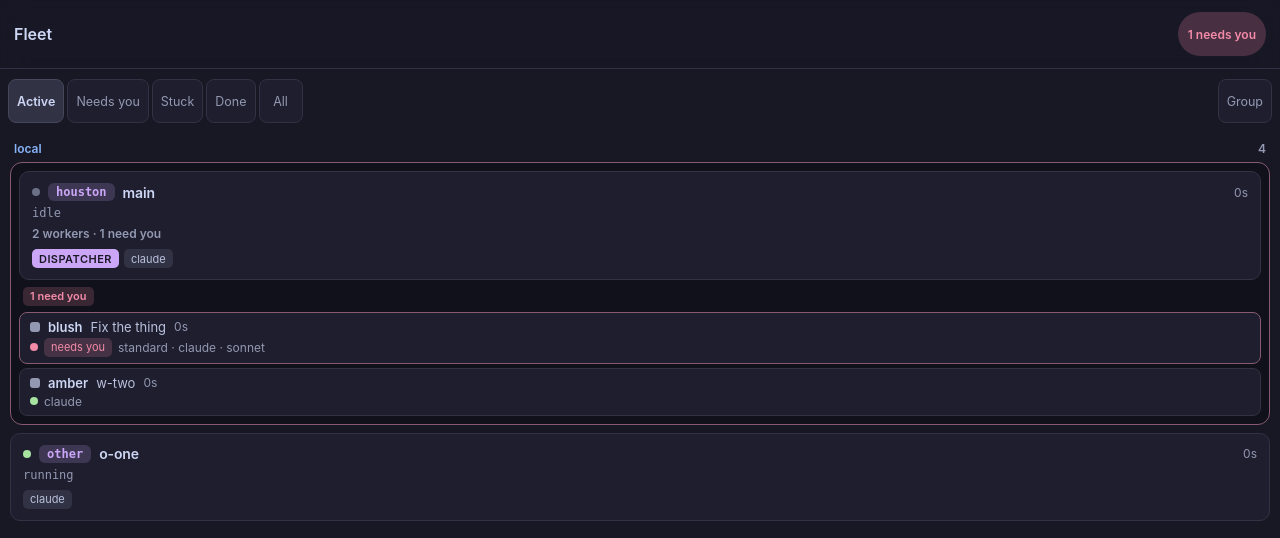
Test case: FleetView dispatcher mode › counts only the members a filter shows, but keeps the head
Click the button "Needs you": (108, 101) [67,79,149,123]
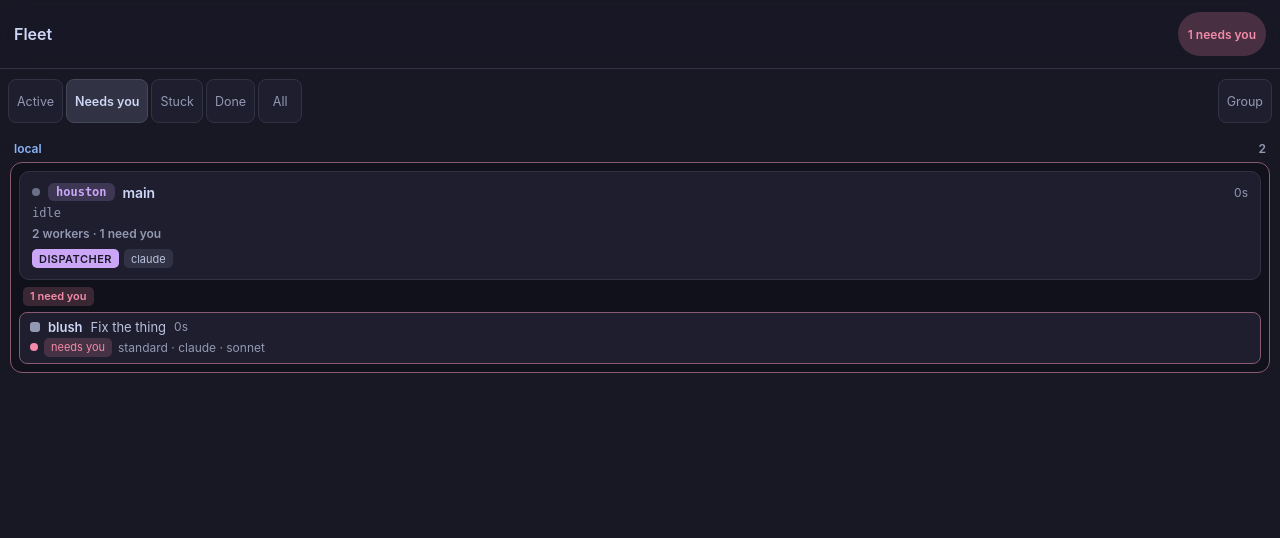
Expected: the element with class "fleet-group" shows "2", [1258,141,1266,156]
Expected: the number of elements with class "worker-row" is 1, [19,312,1261,364]
